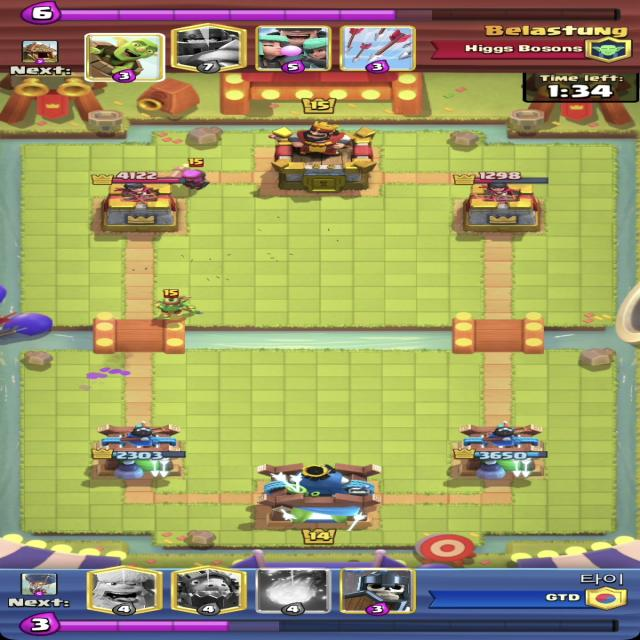Enemy-Firecracker: (168, 158, 210, 190)
Enemy-SpearGoblin: (153, 288, 203, 320)
